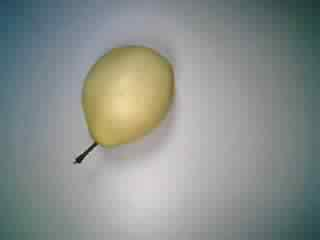pear: (51, 41, 187, 172)
